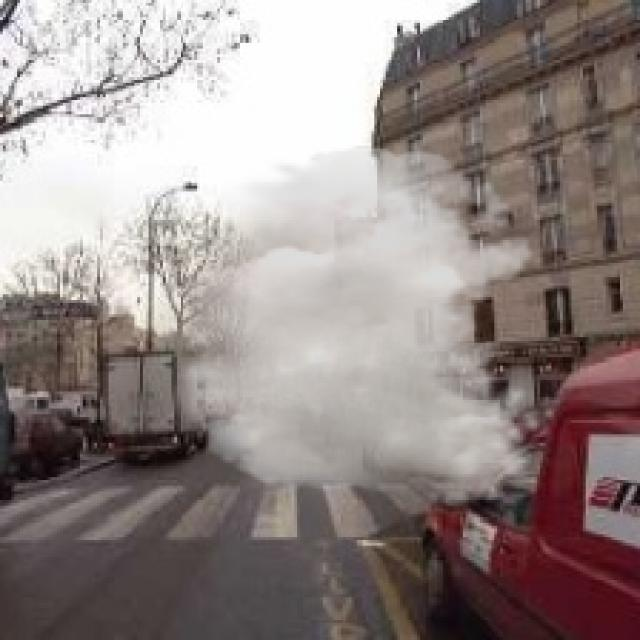smoke: (123, 145, 546, 506)
